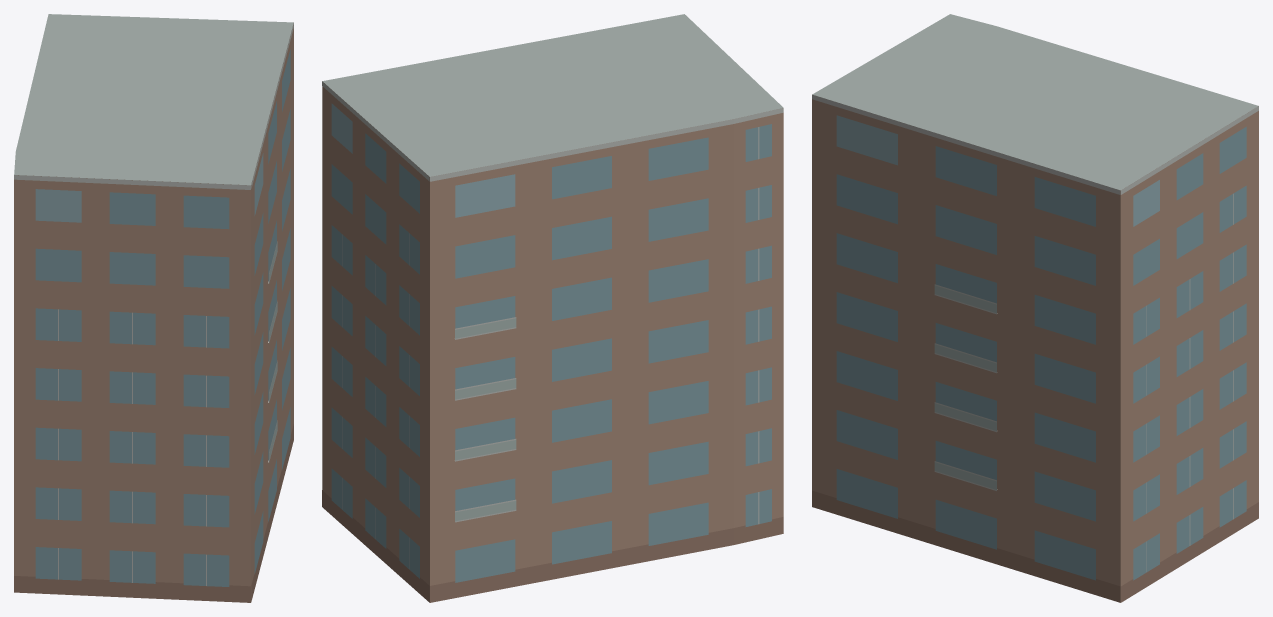
The model's file is survey-upis-32689375.glb.
3 views of the same model, side by side, from view 1: azimuth 30°, elevation 25°; view 2: azimuth 150°, elevation 25°; view 3: azimuth 270°, elevation 25° (orthographic). The views are drawn at different scales.
Visible parts, largest first — view 1: survey-upis-32689375.tmp; view 2: survey-upis-32689375.tmp; view 3: survey-upis-32689375.tmp.
Boxes of the visible parts, x1,y1,x2,y2 form: survey-upis-32689375.tmp: (14, 14, 293, 602); survey-upis-32689375.tmp: (322, 14, 783, 602); survey-upis-32689375.tmp: (812, 14, 1258, 602).
Bounding box in the file's own units: 19.6 × 21.35 × 20.97.
